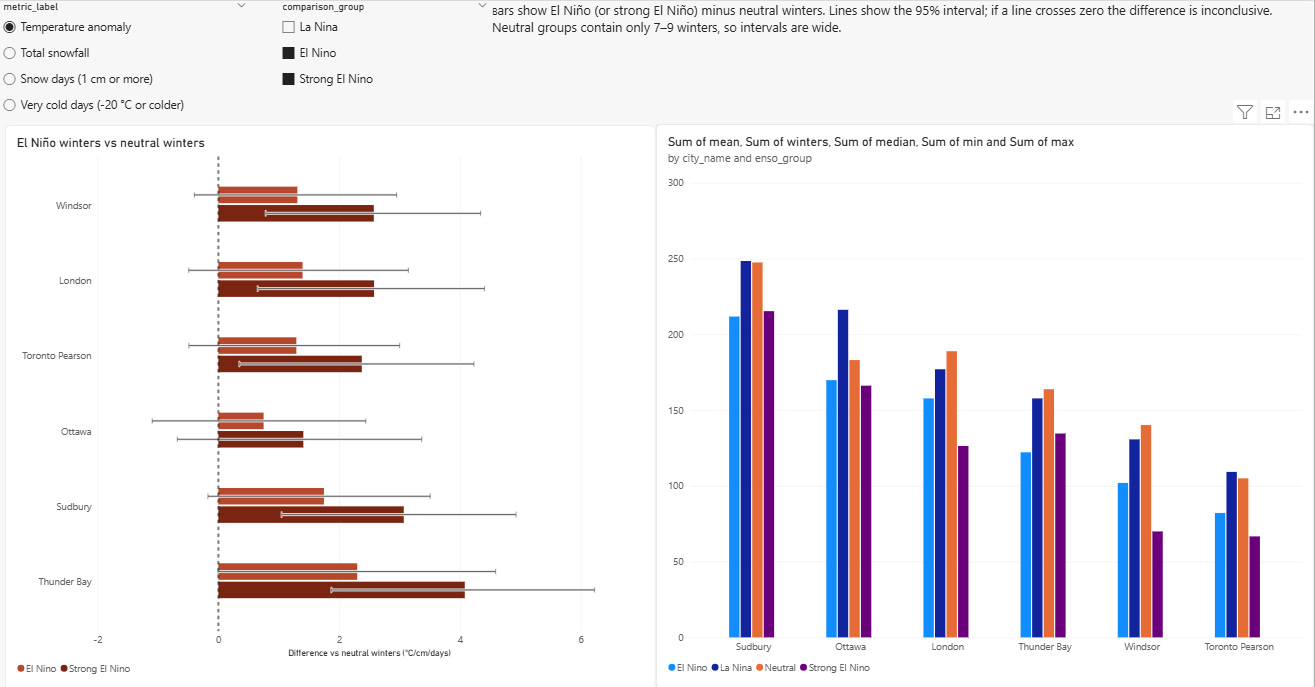

What the dashboard file says about the page in this screenshot:
{"tool":"powerbi","page":{"name":"ENSO comparison","canvas":[1920,1080],"ordinal":1},"visuals":[{"type":"slicer","fields":{"Values":["v_dash_comparison.metric_label"]},"box":[0,0,369.4,199.9],"z":0},{"type":"slicer","fields":{"Values":["v_dash_comparison.comparison_group"]},"box":[406.8,0,314.1,199.9],"z":1},{"type":"clusteredBarChart","title":"El Niño winters vs neutral winters","fields":{"Category":["v_dash_comparison.city_name"],"Series":["v_dash_comparison.comparison_group"],"Y":["Sum(v_dash_comparison.difference)"]},"box":[10.7,180.2,949.3,824.4],"z":2},{"type":"textbox","box":[100,100,300,300],"z":3},{"type":"textbox","box":[99.9,99.9,171.3,80.3],"z":4},{"type":"textbox","box":[720.9,0,1199.1,180.2],"z":5}]}

Visuals, with their boxes on the page's 1920x1080 design canvas (x1, y1, x2, y2). These are canvas units, not pixel positions in the 1315x687 screenshot, which may show the page scaled, cropped or inside an application window:
slicer - v_dash_comparison.metric_label: 0 0 369 200
slicer - v_dash_comparison.comparison_group: 407 0 721 200
"El Niño winters vs neutral winters" clusteredBarChart: 11 180 960 1005
textbox: 100 100 400 400
textbox: 100 100 271 180
textbox: 721 0 1920 180
